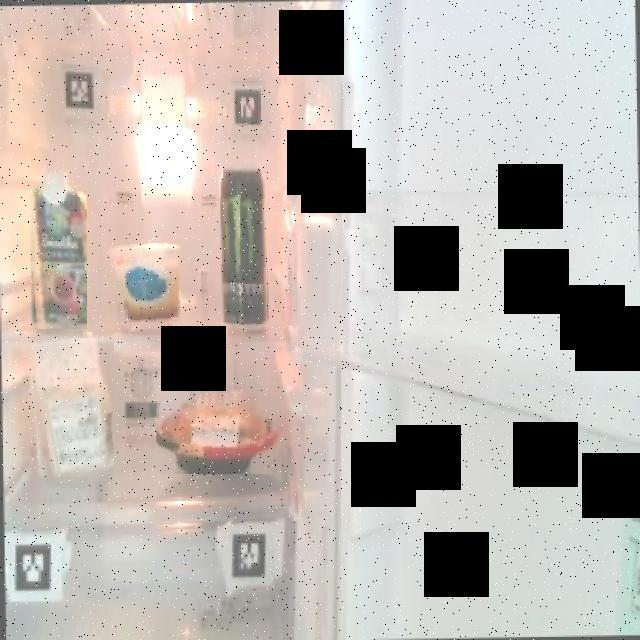bento: (156, 392, 284, 474)
energy_drink: (216, 162, 269, 326)
pudding: (110, 242, 181, 326)
sandwich: (28, 338, 114, 482)
smoothie: (24, 166, 87, 329)
